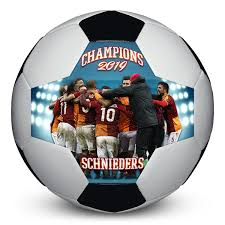football ball: (10, 7, 215, 214)
